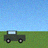vehicle: (4, 31, 25, 43)
